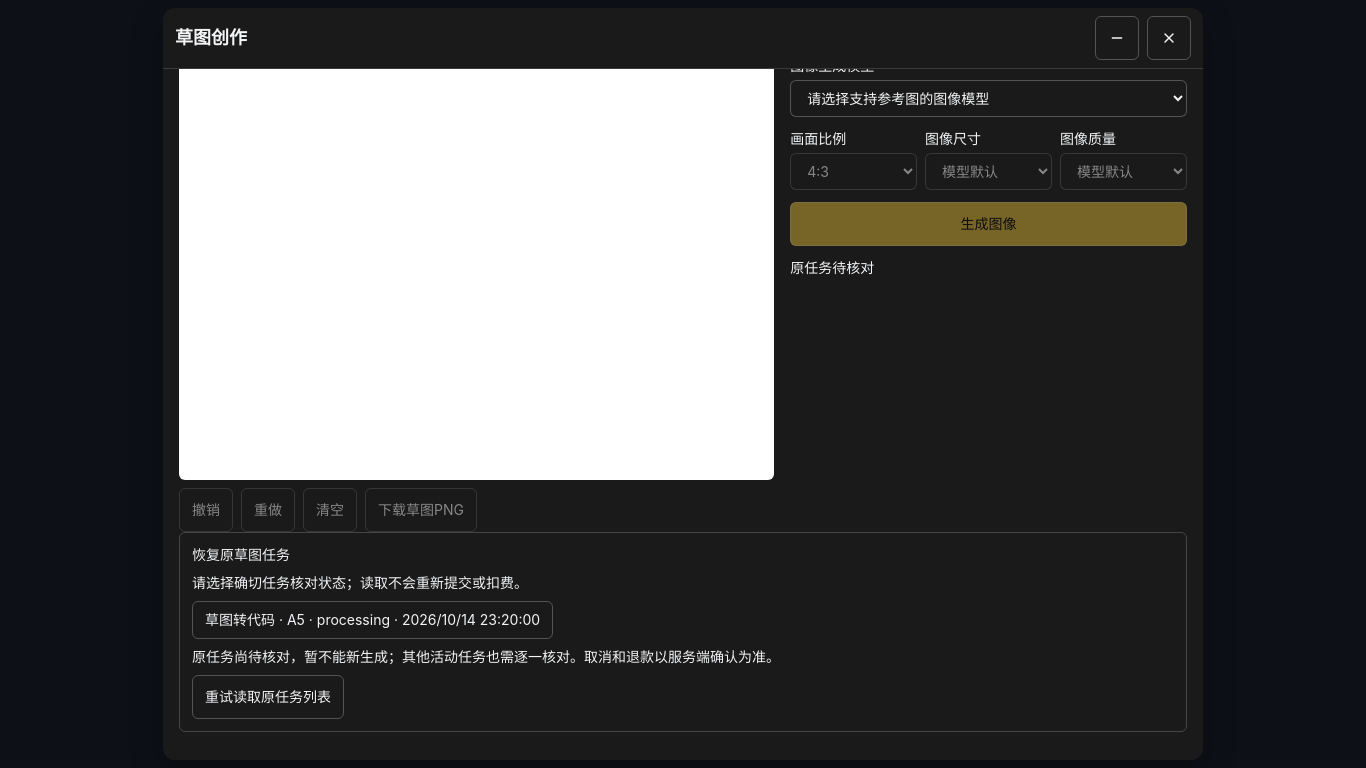
Test: opted-in sketch drawer recovers the original paid task without resubmission › recovers a code task through its real client without a drawing or selected model
The width and height of the screenshot is (1366, 768).
(page scrolled)
Click the button "草图转代码 · A5 · processing · 2026/10/14 23:20:00" at (373, 620), box [192,601,553,639]
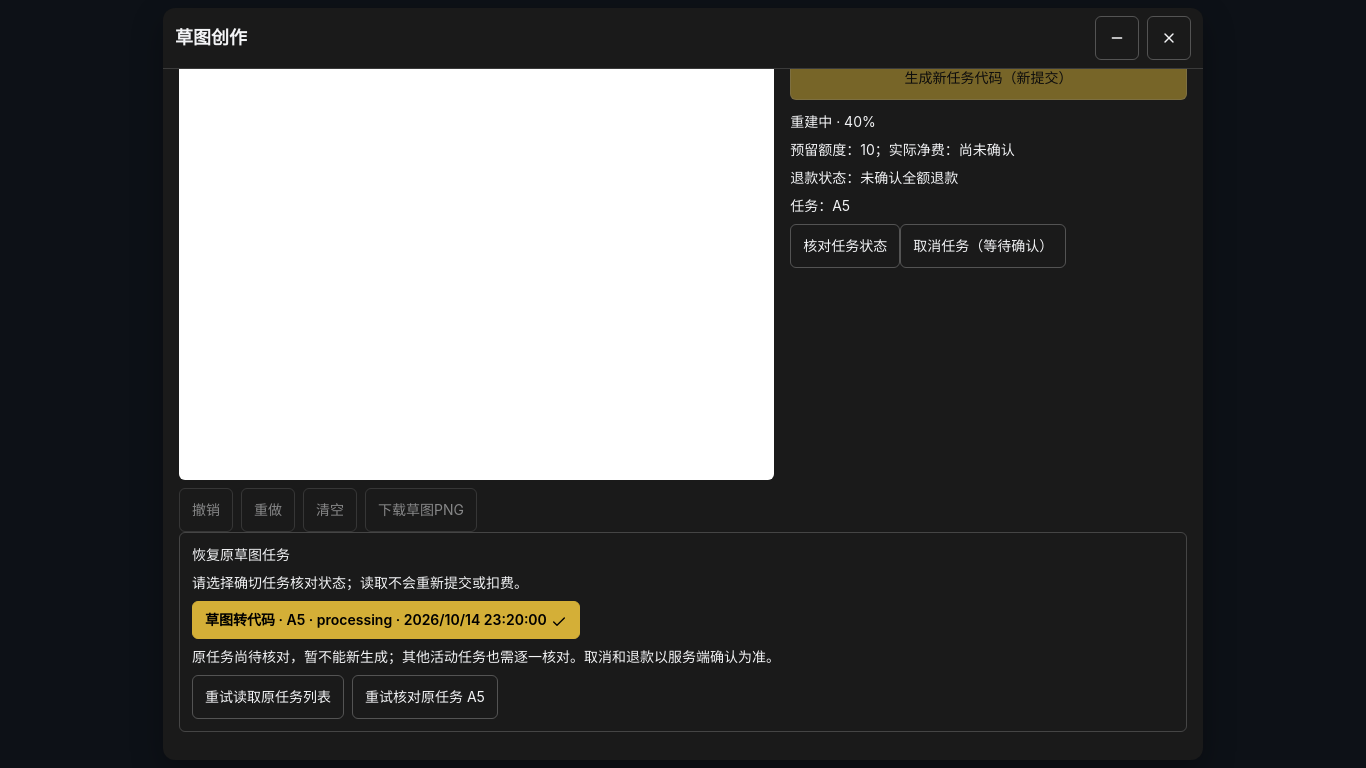
Expected: the text "重建中 · 40%" is shown, [790,113,876,130]
Click the button "取消任务（等待确认）" at (983, 246), box [900,224,1066,268]
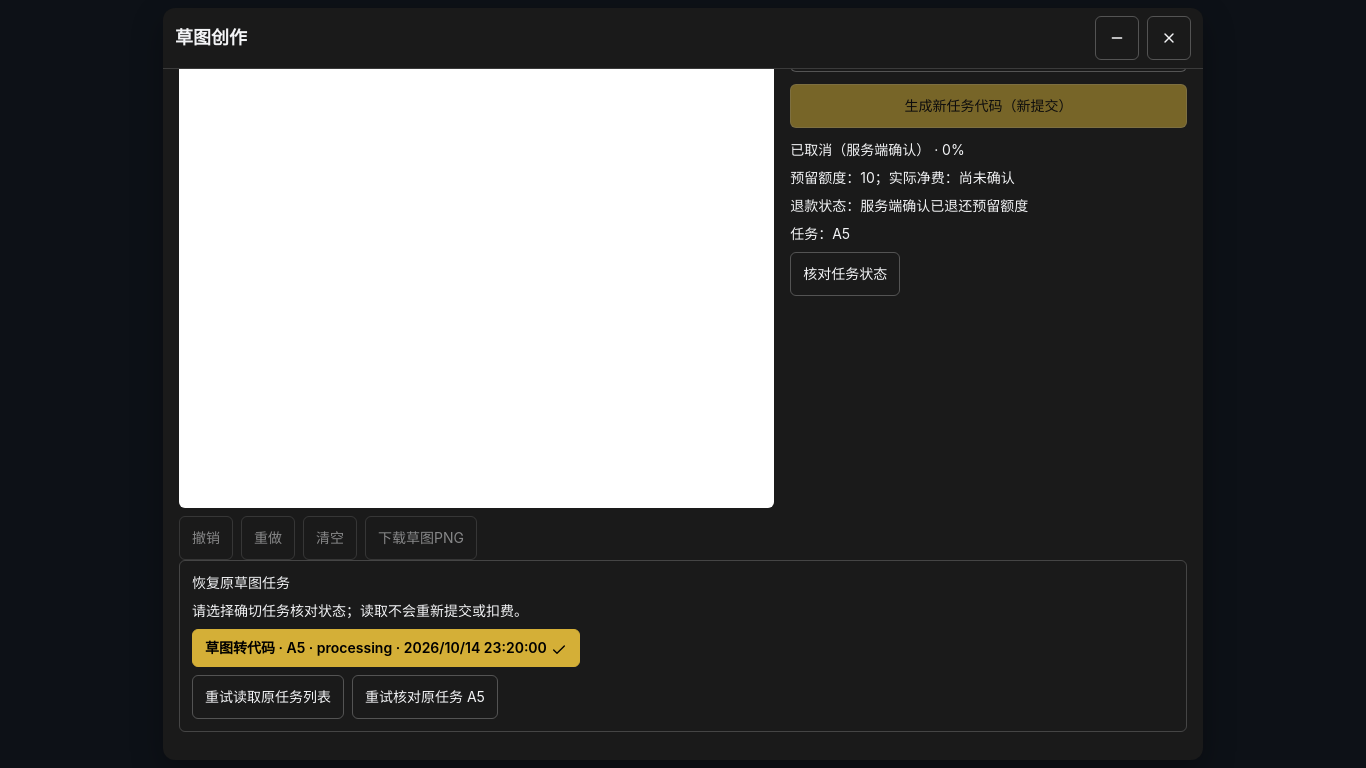
Expected: the text "已取消（服务端确认） · 0%" is shown, [790,141,965,158]
